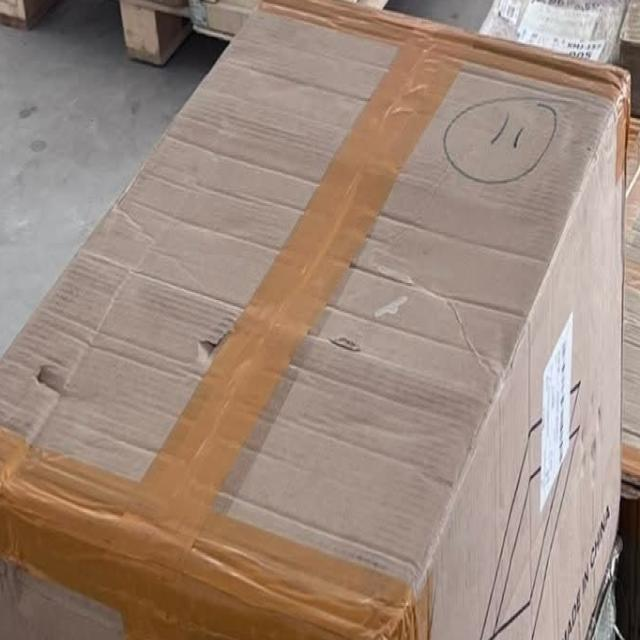carton_box: (0, 0, 640, 640)
export_mark_label: (540, 313, 577, 508)
package_damage: (180, 300, 262, 393), (20, 346, 97, 428), (325, 323, 376, 374)
